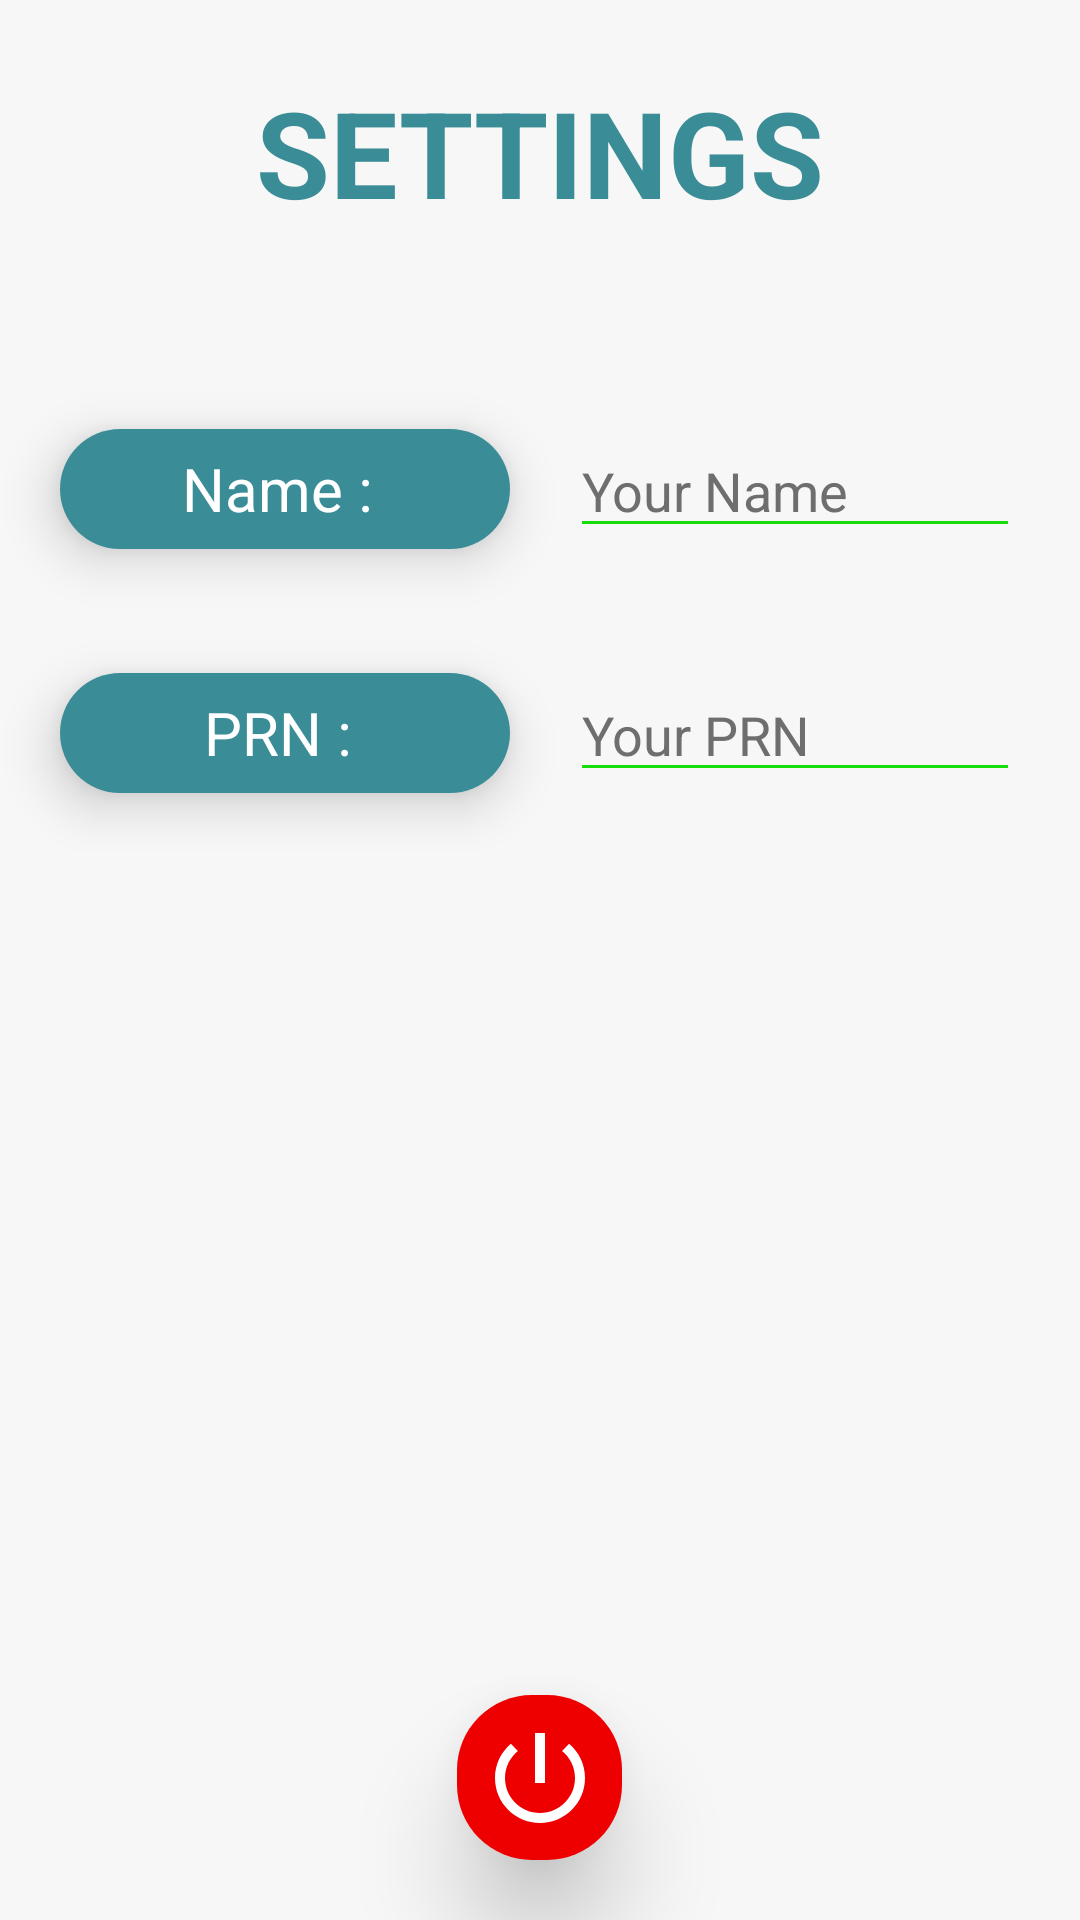

Named icons in this screenshot (1080 x 1920) and their centers, [x,y]:
power settings: [539,1777]
